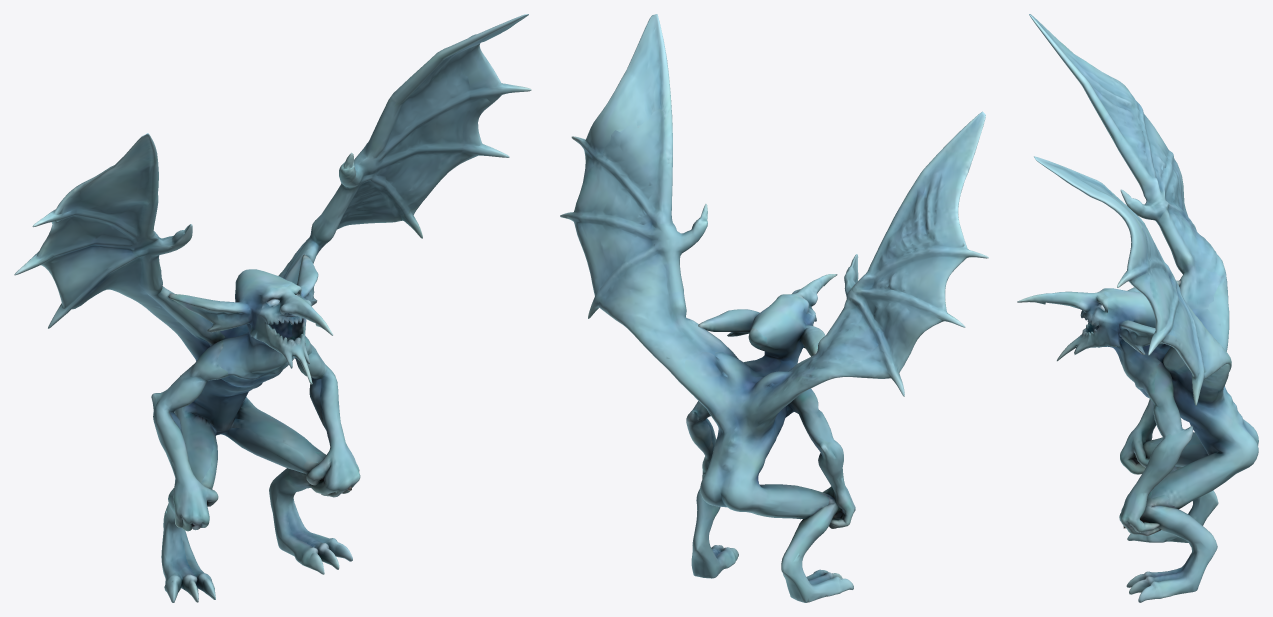
Rendered from MZ4250 - Ice Mephit_2 2025.glb.
The picture shows the model from 3 angles, left to right: view 1: azimuth 30°, elevation 25°; view 2: azimuth 150°, elevation 25°; view 3: azimuth 270°, elevation 25°; orthographic projection. The views are drawn at different scales.
Parts seen in each view (by area): view 1: Cylinder.001; view 2: Cylinder.001; view 3: Cylinder.001.
Part boxes in pixels (<box>): Cylinder.001: <box>14,14,531,602</box>; Cylinder.001: <box>560,14,988,602</box>; Cylinder.001: <box>1017,14,1258,602</box>.
Size of the model in its own units: 97.43 by 106 by 46.87.
1 material, 1 textured.
